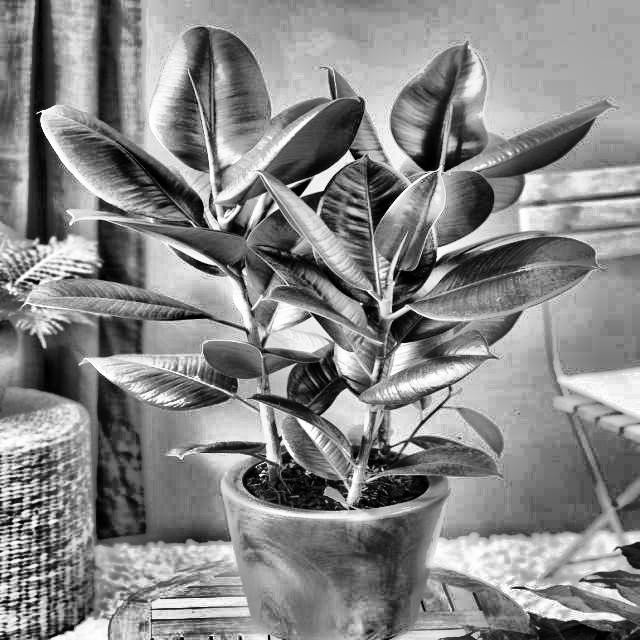plants: (70, 56, 560, 640)
